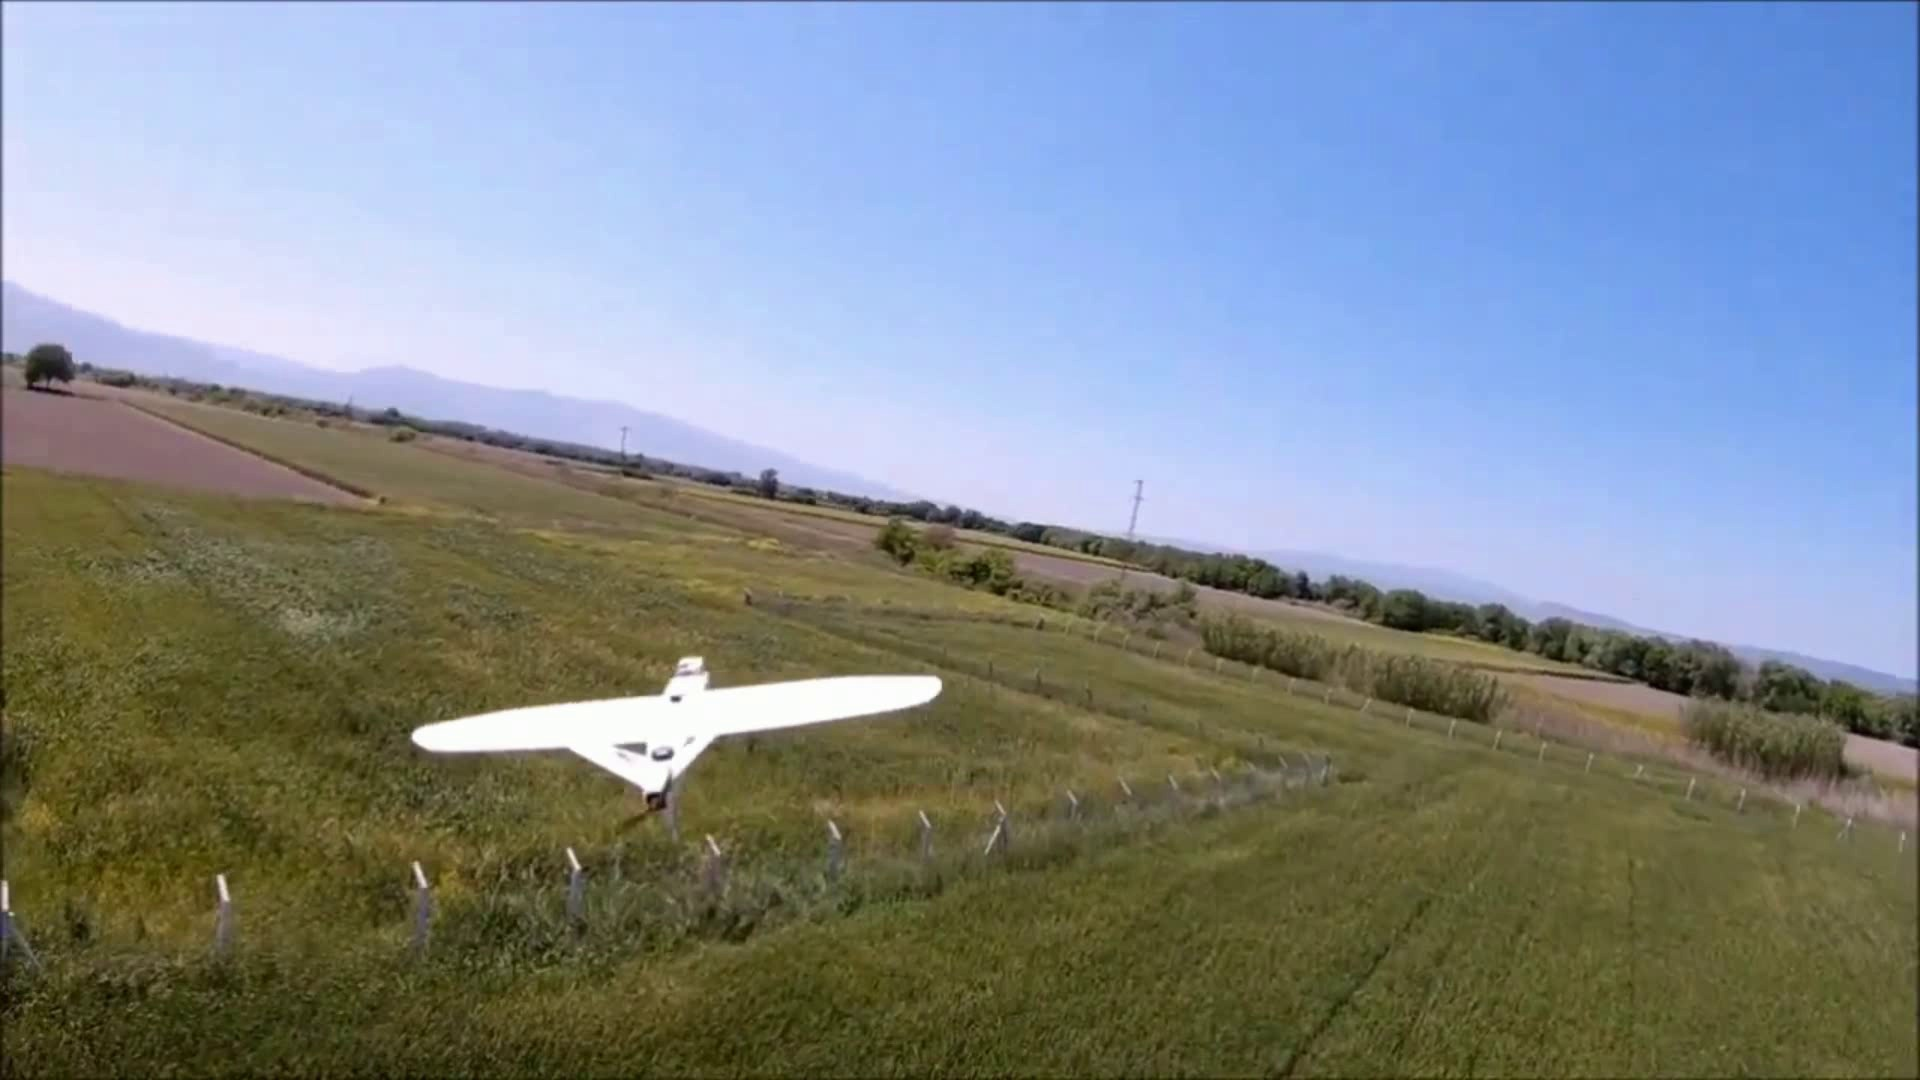airplane: (410, 655, 945, 814)
